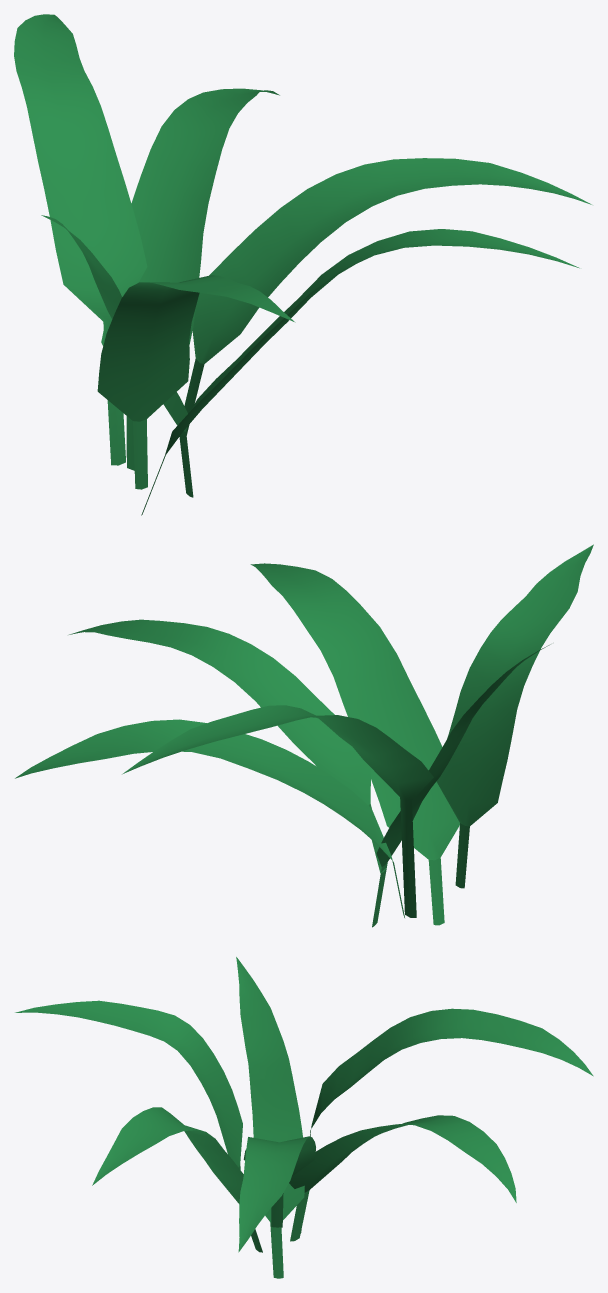
Rendered from plant_bush_F.fbx.
The picture shows the model from 3 angles, top to bottom: view 1: azimuth 30°, elevation 25°; view 2: azimuth 150°, elevation 25°; view 3: azimuth 270°, elevation 25°; orthographic projection. The views are drawn at different scales.
Parts seen in each view (by area): view 1: plant_bush_F_leaf_B, plant_bush_F_leaf_D, plant_bush_F_leaf_C, plant_bush_F_leaf_A, plant_bush_F_leaf_E, plant_bush_F_leaf_F; view 2: plant_bush_F_leaf_E, plant_bush_F_leaf_A, plant_bush_F_leaf_D, plant_bush_F_leaf_C, plant_bush_F_leaf_B, plant_bush_F_leaf_F; view 3: plant_bush_F_leaf_F, plant_bush_F_leaf_B, plant_bush_F_leaf_A, plant_bush_F_leaf_C, plant_bush_F_leaf_D, plant_bush_F_leaf_E.
Part boxes in pixels (box(x1,y1,x2,y2)): plant_bush_F_leaf_B: box(14, 14, 147, 465); plant_bush_F_leaf_D: box(180, 158, 591, 437); plant_bush_F_leaf_C: box(101, 88, 279, 470); plant_bush_F_leaf_A: box(97, 275, 295, 489); plant_bush_F_leaf_E: box(141, 229, 579, 515); plant_bush_F_leaf_F: box(41, 215, 193, 497); plant_bush_F_leaf_E: box(250, 563, 459, 925); plant_bush_F_leaf_A: box(436, 544, 593, 888); plant_bush_F_leaf_D: box(69, 619, 386, 873); plant_bush_F_leaf_C: box(15, 719, 404, 917); plant_bush_F_leaf_B: box(122, 705, 433, 917); plant_bush_F_leaf_F: box(372, 644, 550, 927); plant_bush_F_leaf_F: box(236, 957, 304, 1278); plant_bush_F_leaf_B: box(300, 1008, 593, 1233); plant_bush_F_leaf_A: box(15, 1000, 242, 1169); plant_bush_F_leaf_C: box(289, 1115, 516, 1241); plant_bush_F_leaf_D: box(238, 1136, 315, 1252); plant_bush_F_leaf_E: box(92, 1107, 262, 1252).
Bounding box in the file's own units: 45.31 × 27.01 × 55.05.
